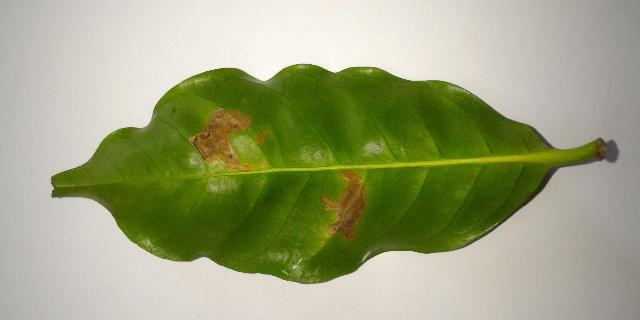cercospora: (189, 108, 251, 171), (322, 171, 367, 240), (257, 132, 267, 143)
